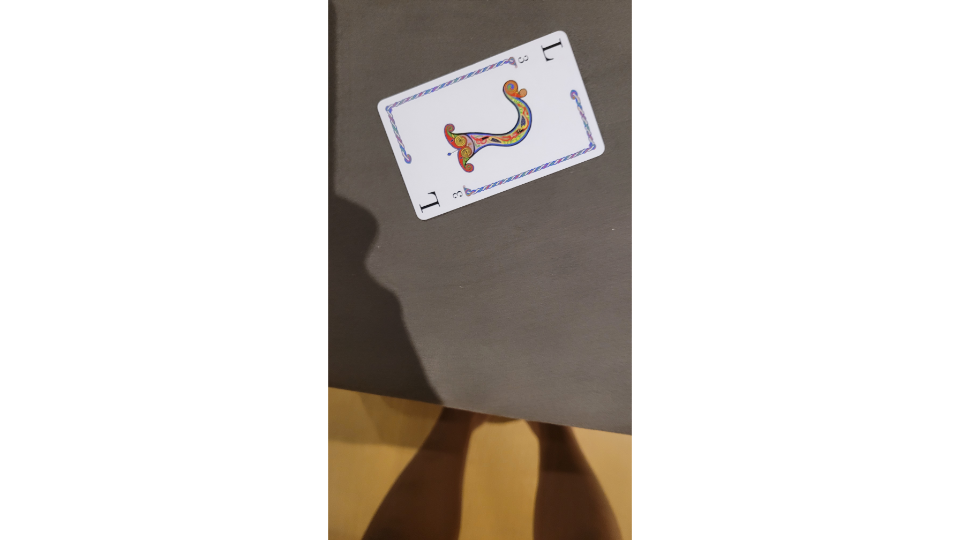L: (374, 27, 609, 222)
